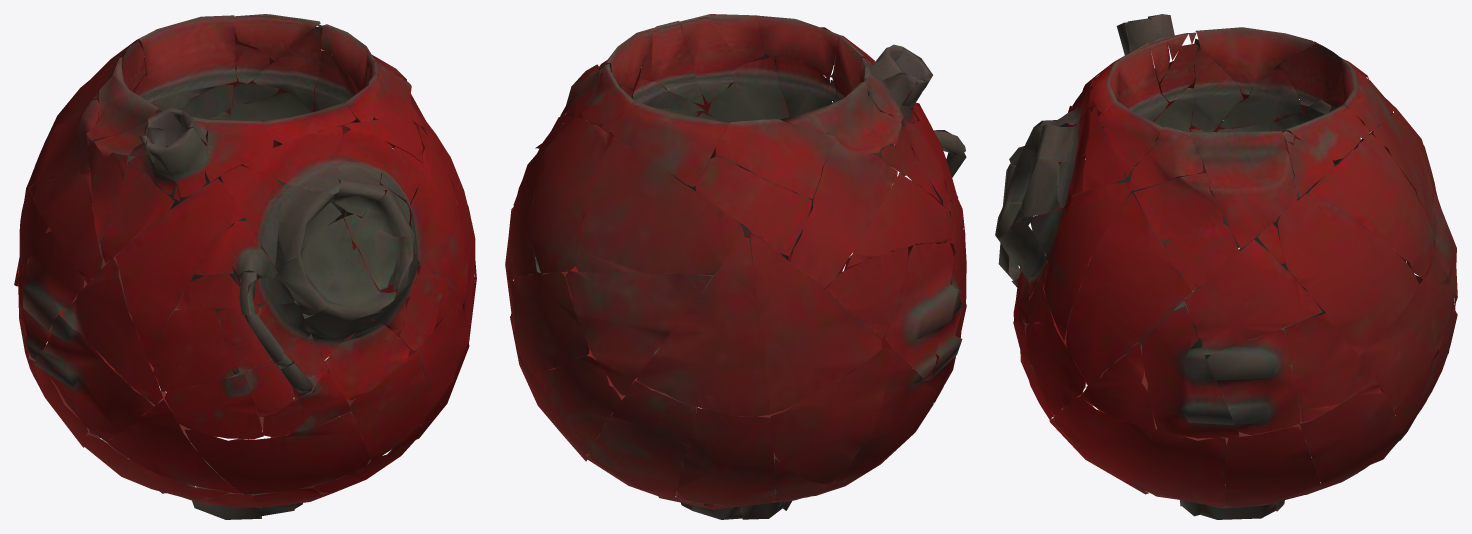
The model's file is barrel.glb.
3 views of the same model, side by side, from view 1: azimuth 30°, elevation 25°; view 2: azimuth 150°, elevation 25°; view 3: azimuth 270°, elevation 25° (orthographic). The views are drawn at different scales.
Parts seen in each view (by area): view 1: Mesh_0; view 2: Mesh_0; view 3: Mesh_0.
Part boxes in pixels (x1,y1,x2,y2): Mesh_0: (14,14,476,519); Mesh_0: (505,14,966,519); Mesh_0: (995,14,1457,519).
Size of the model in its own units: 1.84 by 1.9 by 1.85.
Materials: 1 (1 with a texture image).
